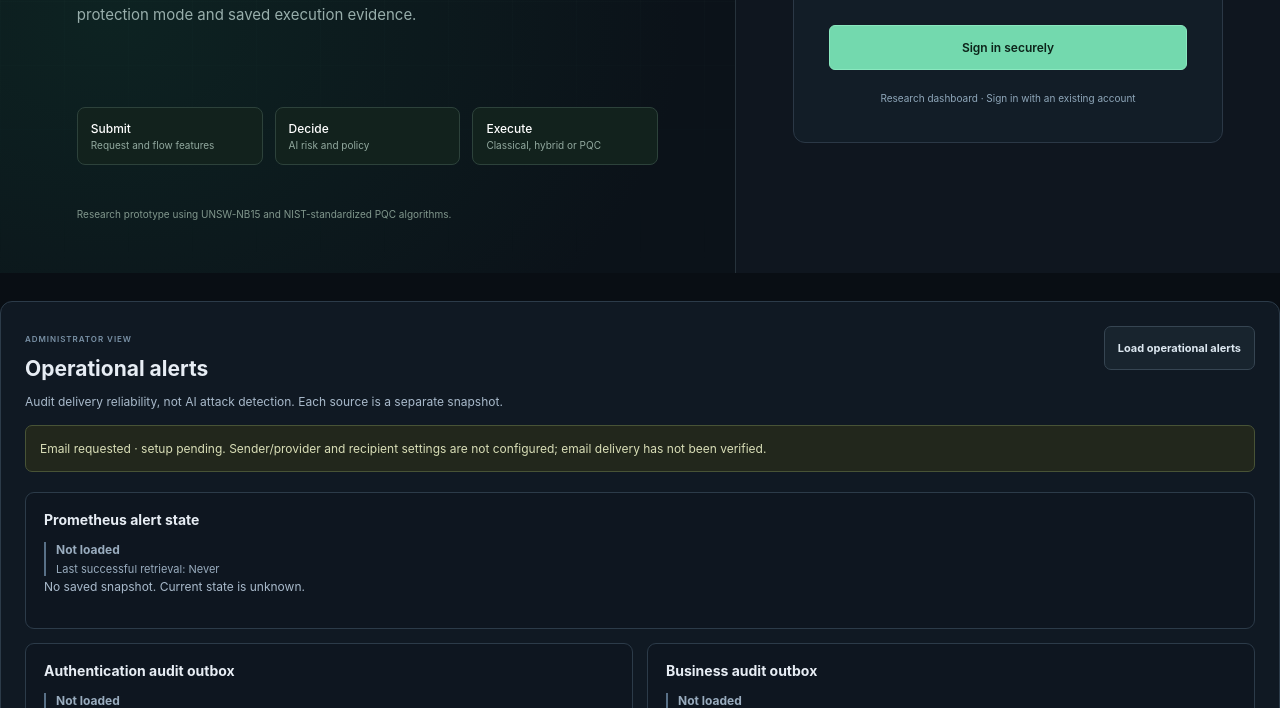
Scenario: Operational snapshot access/session boundaries › ignores late old-session401 and old snapshots after token replacement
Later steps or results of the test are not shown.
(page scrolled)
Click the button "Load operational alerts" at (1179, 348), box [1104,326,1255,370]
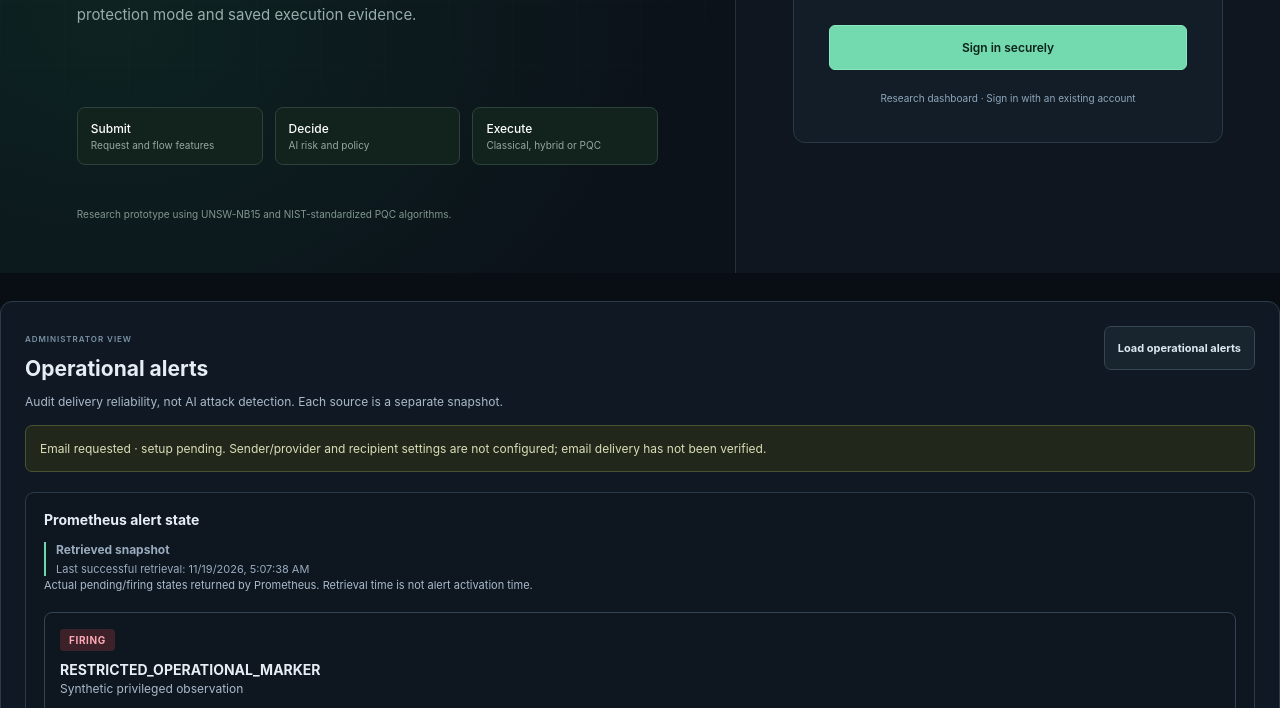
Expected: the heading "RESTRICTED_OPERATIONAL_MARKER" is shown, [60,661,321,678]
